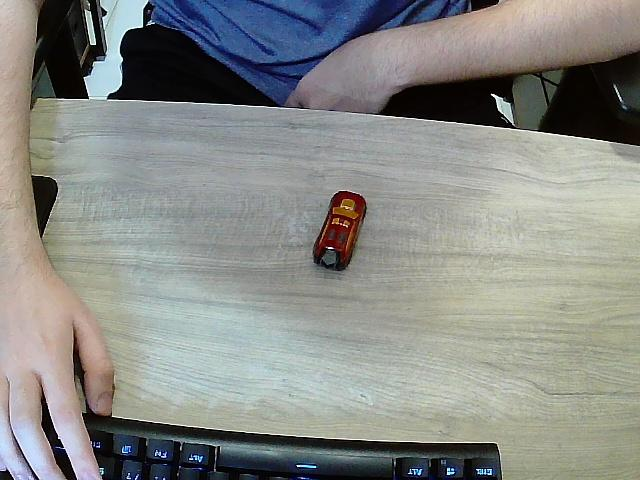Carro: (313, 192, 366, 271)
